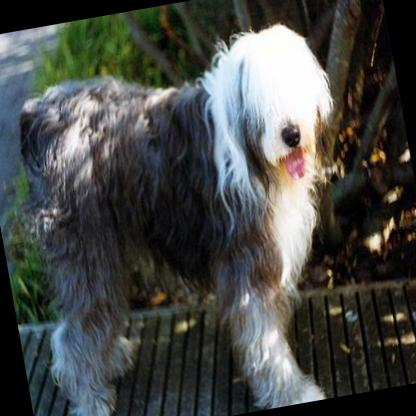Old_English_sheepdog: (0, 10, 385, 416)
